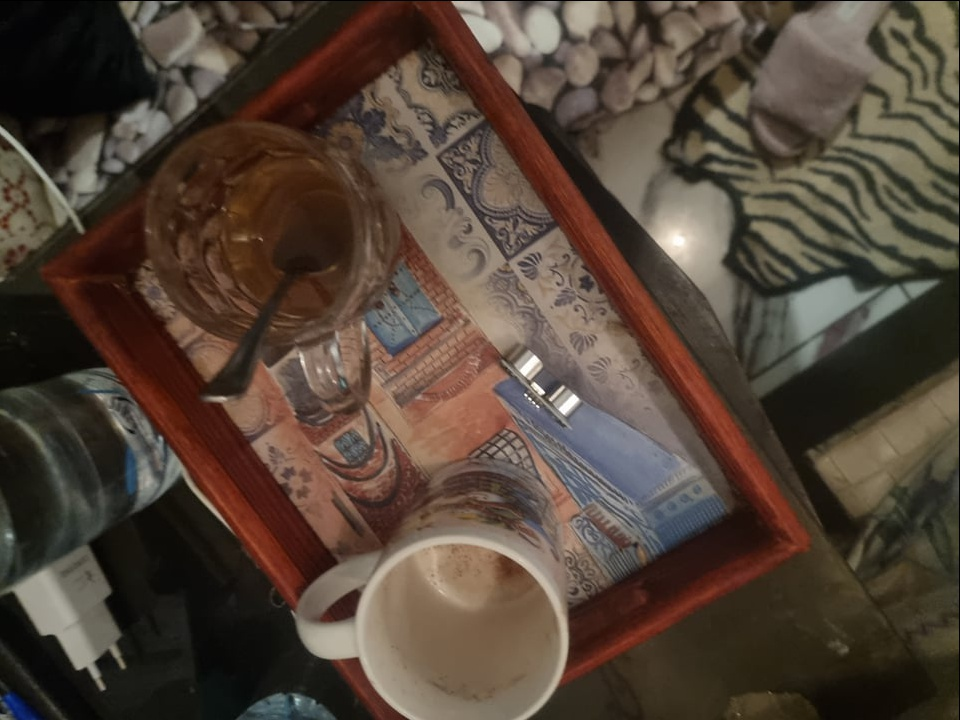SENSOR: (498, 337, 588, 429)
